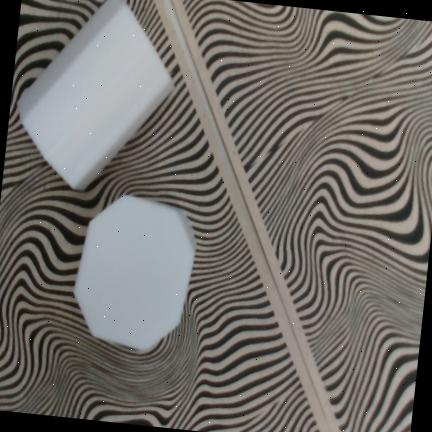Prisma_hexagonal: (15, 0, 175, 190), (74, 195, 197, 351)
